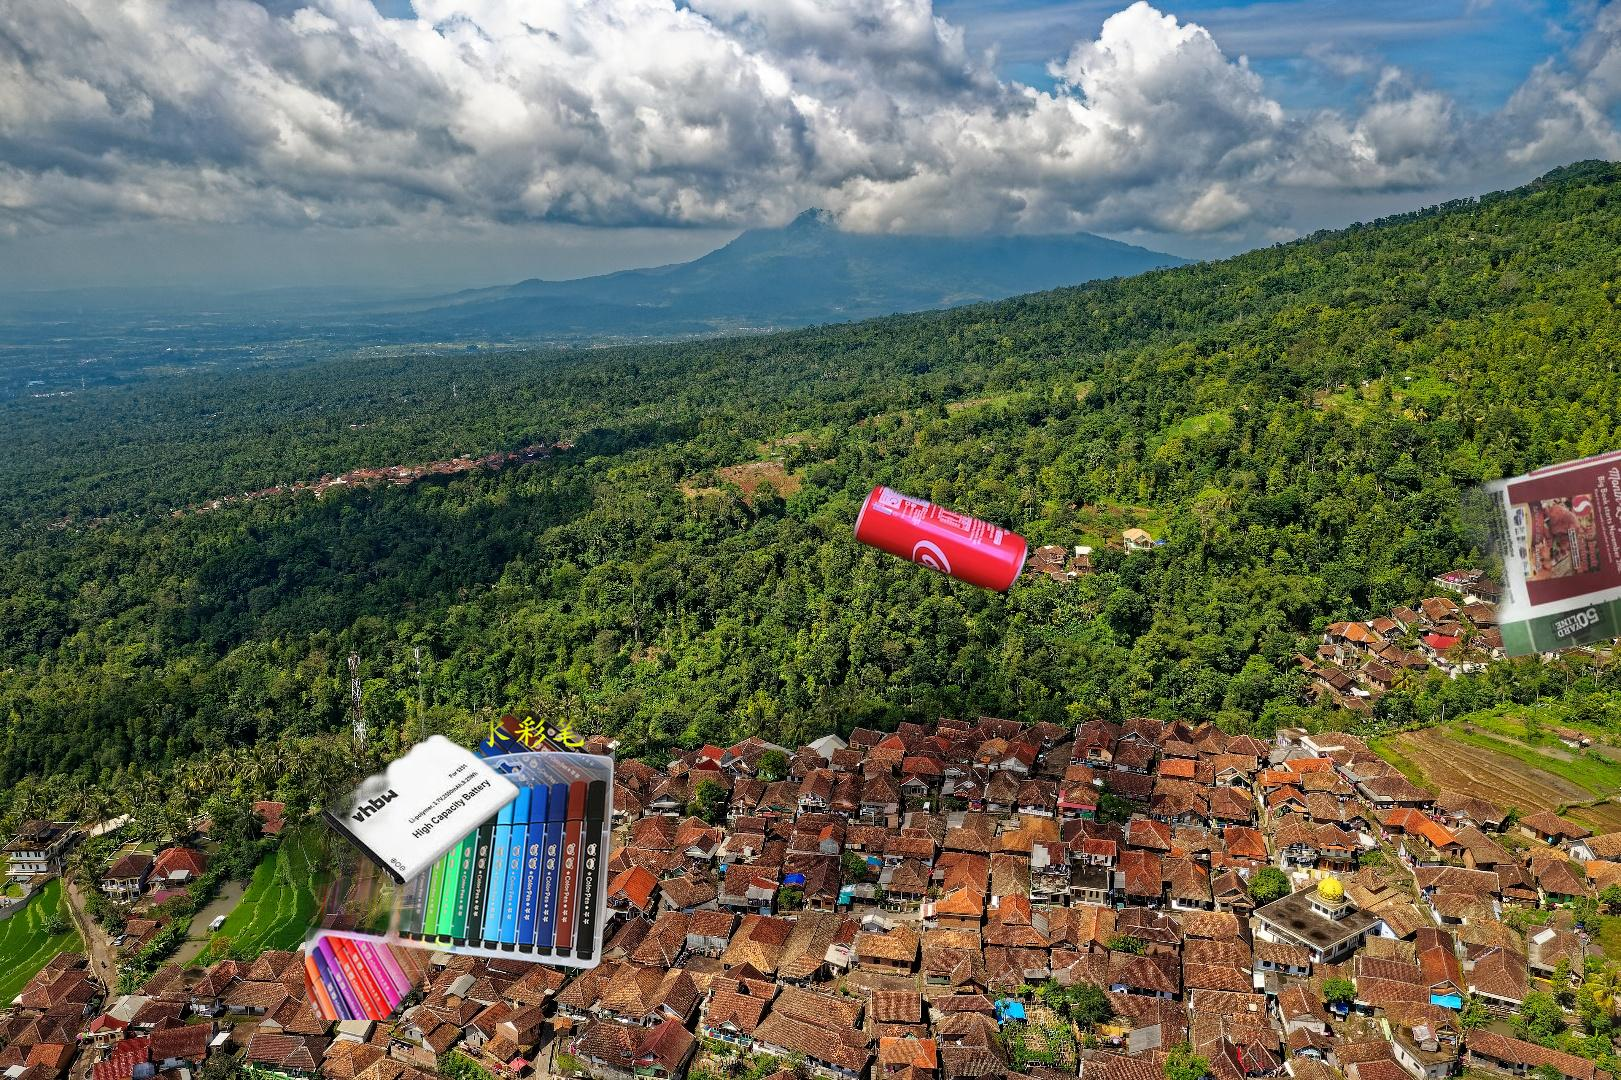battery: (276, 720, 524, 902)
metal-cans: (848, 479, 1033, 598)
paper: (1460, 297, 1621, 681)
penholder: (305, 710, 615, 1020)
